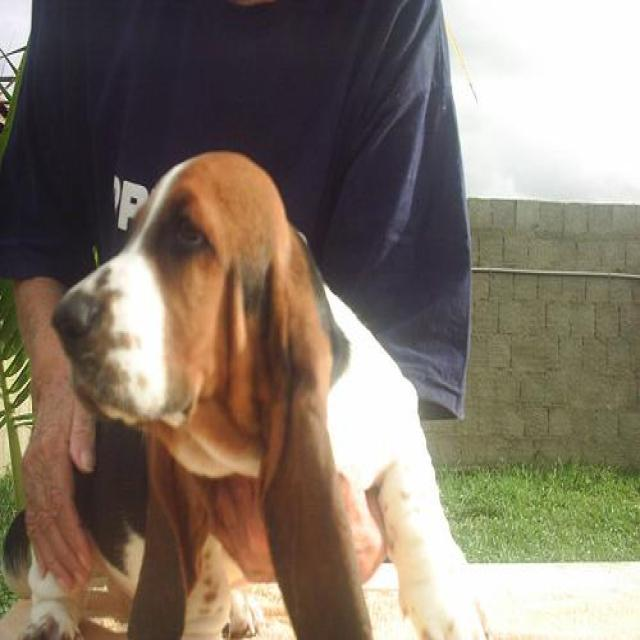basset: (0, 152, 492, 638)
